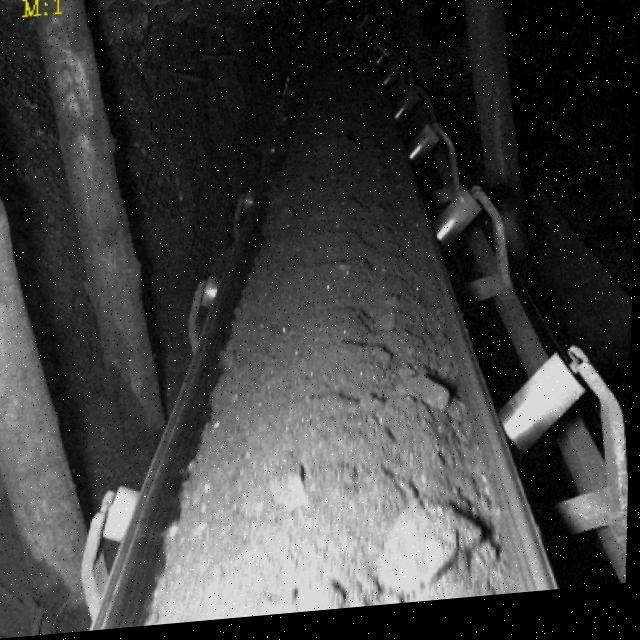large_sized_coal: (376, 500, 483, 595)
